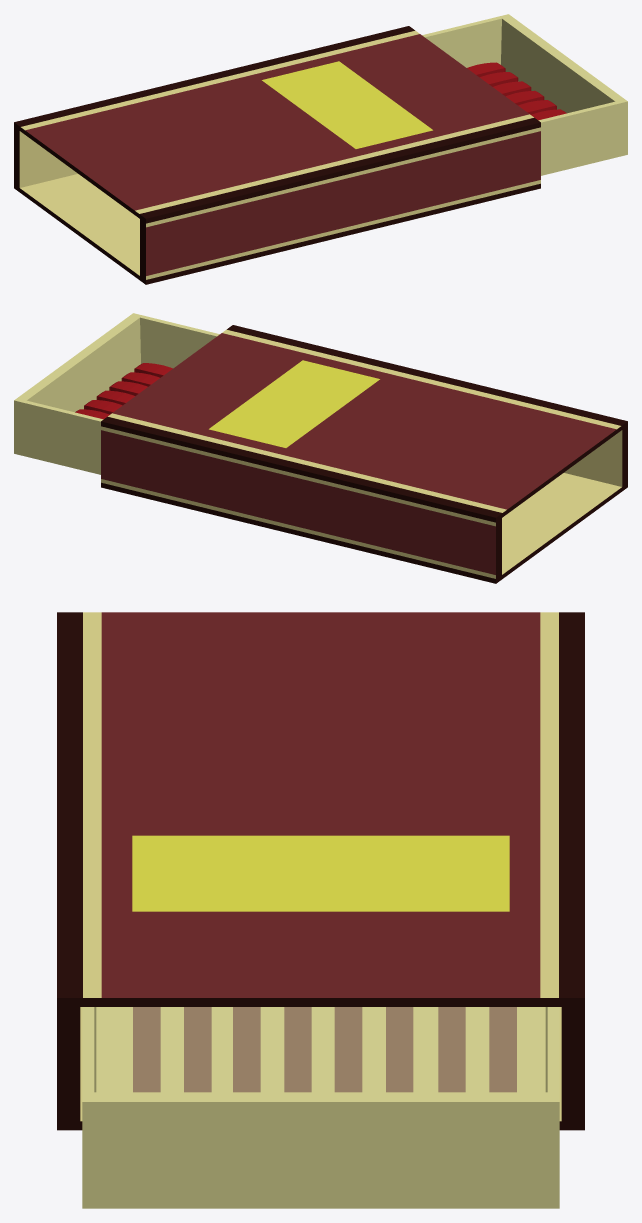
Rendered from matches.fbx.
3 views of the same model, one above another, from view 1: azimuth 30°, elevation 25°; view 2: azimuth 150°, elevation 25°; view 3: azimuth 270°, elevation 25° (orthographic). The views are drawn at different scales.
Visible parts, largest first — view 1: Cube, Cube.001; view 2: Cube, Cube.001; view 3: Cube, Cube.001, Cube.004, Cube.002, Cube.003, Cube.006, Cube.007, Cube.008, Cube.009, Cube.005.
Part boxes in pixels (<box>): Cube: <box>14,26,540,284</box>; Cube.001: <box>422,14,627,175</box>; Cube: <box>101,325,627,583</box>; Cube.001: <box>14,313,219,474</box>; Cube: <box>57,612,584,1130</box>; Cube.001: <box>82,1007,559,1208</box>; Cube.004: <box>334,1007,362,1092</box>; Cube.002: <box>489,1007,516,1092</box>; Cube.003: <box>438,1007,465,1092</box>; Cube.006: <box>284,1007,311,1092</box>; Cube.007: <box>233,1007,260,1092</box>; Cube.008: <box>133,1007,160,1092</box>; Cube.009: <box>184,1007,211,1092</box>; Cube.005: <box>386,1007,413,1092</box>.
Size of the model in its own units: 662 by 85.54 by 310.
